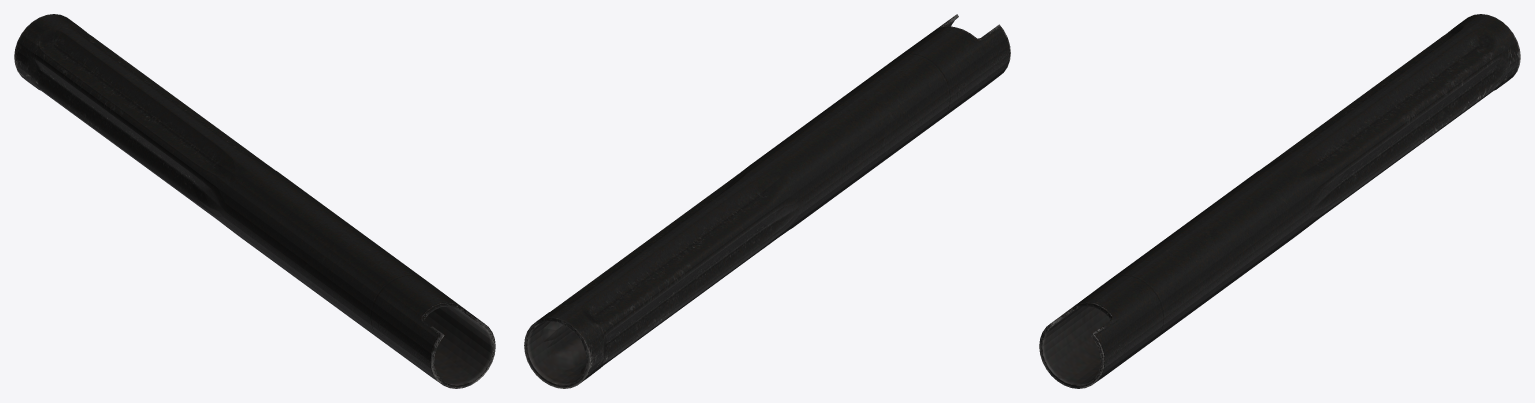
The picture shows the model from 3 angles, left to right: view 1: azimuth 30°, elevation 25°; view 2: azimuth 150°, elevation 25°; view 3: azimuth 330°, elevation 25°; orthographic projection.
Visible parts, largest first — view 1: TW_649ec107961514b22506b10c_PZ_Import; view 2: TW_649ec107961514b22506b10c_PZ_Import; view 3: TW_649ec107961514b22506b10c_PZ_Import.
Part boxes in pixels (box(x1,y1,x2,y2)): TW_649ec107961514b22506b10c_PZ_Import: box(14, 14, 495, 388); TW_649ec107961514b22506b10c_PZ_Import: box(524, 14, 1010, 388); TW_649ec107961514b22506b10c_PZ_Import: box(1039, 14, 1520, 388).
Bounding box in the file's own units: 0.0116 × 0.1288 × 0.0117.
Materials: 1 (1 with a texture image).
